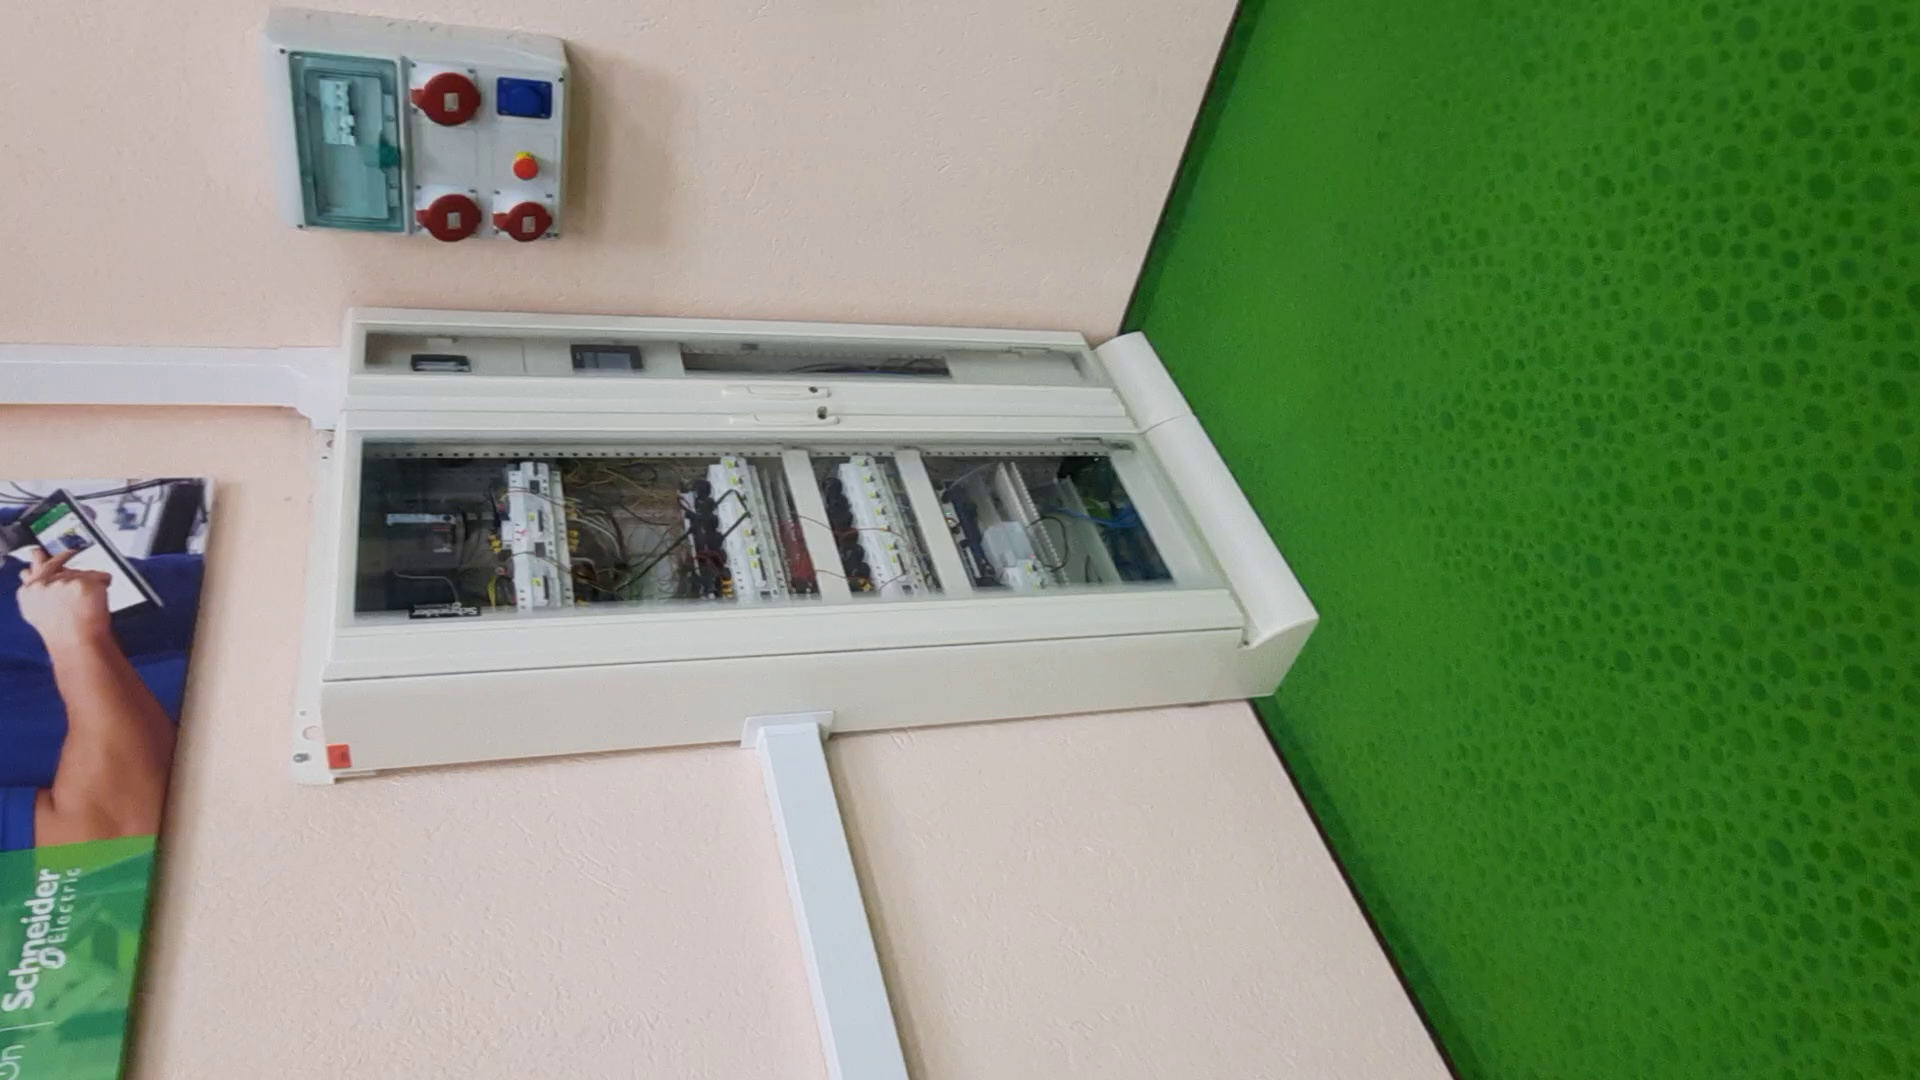stand1: (313, 302, 1319, 796)
